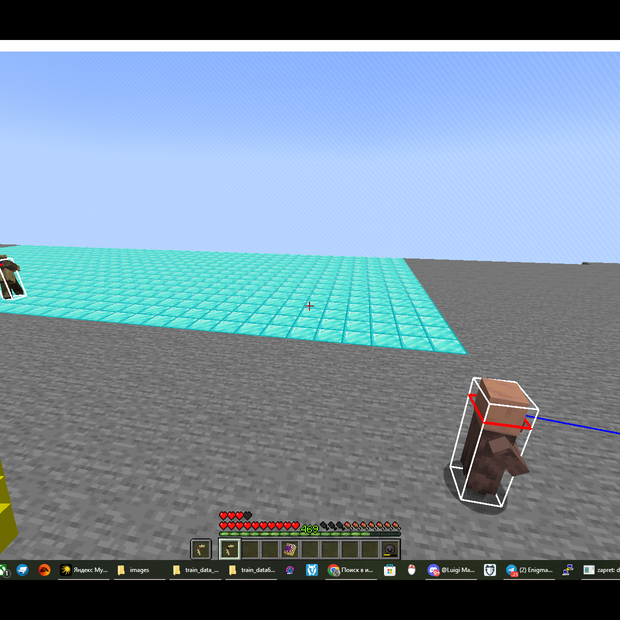target: (451, 376, 540, 508), (1, 257, 28, 300)
